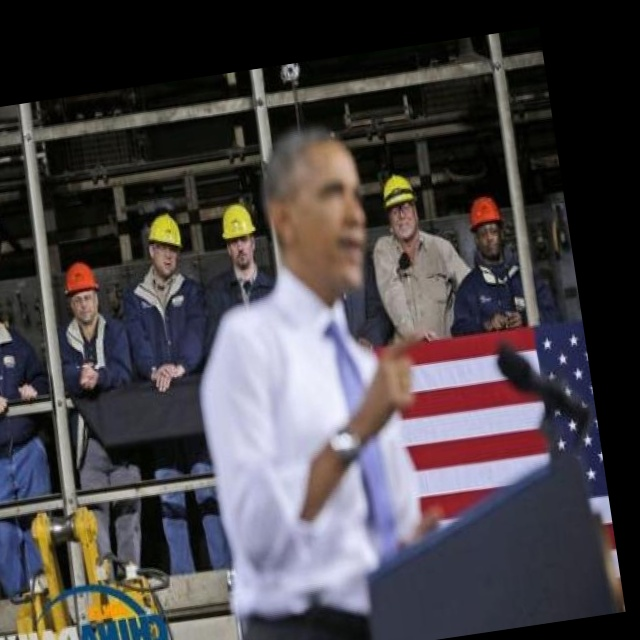Con_Casco: (379, 170, 424, 241), (462, 193, 509, 260), (219, 201, 261, 270)
